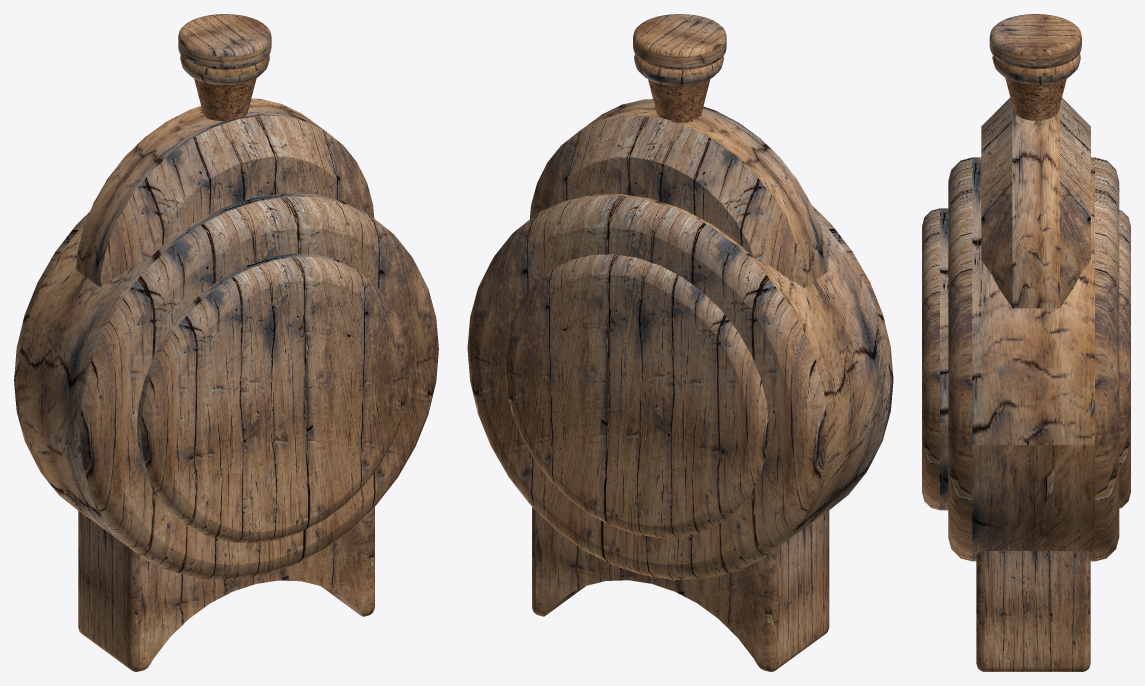
The model's file is WaterBottle.fbx.
3 views of the same model, side by side, from view 1: azimuth 30°, elevation 25°; view 2: azimuth 150°, elevation 25°; view 3: azimuth 270°, elevation 25° (orthographic).
Parts seen in each view (by area): view 1: Extrude, Extrude_2, Extrude_3_4, Cube, Extrude_3, Cone_1, Torus; view 2: Extrude, Extrude_2, Extrude_3_4, Cube, Extrude_3, Cone_1, Torus; view 3: Extrude, Extrude_3_4, Cube, Extrude_2, Extrude_3, Cone_1, Torus.
Part boxes in pixels (left/top/right/bottom): Extrude: left=14, top=193, right=438, bottom=579; Extrude_2: left=137, top=253, right=409, bottom=543; Extrude_3_4: left=76, top=98, right=374, bottom=286; Cube: left=78, top=507, right=374, bottom=671; Extrude_3: left=178, top=14, right=271, bottom=69; Cone_1: left=194, top=78, right=256, bottom=121; Torus: left=180, top=55, right=269, bottom=84; Extrude: left=467, top=194, right=893, bottom=579; Extrude_2: left=504, top=254, right=768, bottom=537; Extrude_3_4: left=529, top=99, right=828, bottom=287; Cube: left=532, top=507, right=829, bottom=671; Extrude_3: left=633, top=14, right=726, bottom=69; Cone_1: left=648, top=79, right=710, bottom=121; Torus: left=634, top=54, right=723, bottom=85; Extrude: left=948, top=157, right=1119, bottom=561; Extrude_3_4: left=981, top=98, right=1090, bottom=308; Cube: left=976, top=551, right=1090, bottom=671; Extrude_2: left=922, top=208, right=1130, bottom=510; Extrude_3: left=989, top=14, right=1081, bottom=69; Cone_1: left=1005, top=78, right=1066, bottom=120; Torus: left=992, top=53, right=1080, bottom=84.
Size of the model in its own units: 145 by 231 by 74.94.
3 materials, 3 textured.
